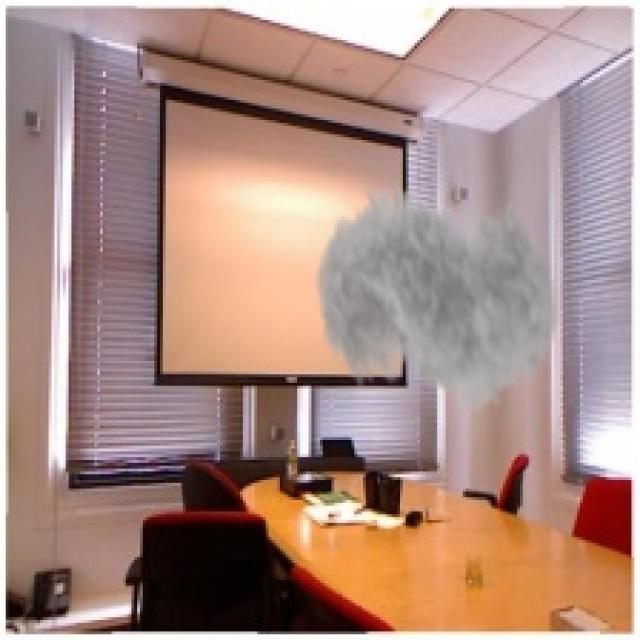smoke: (314, 154, 560, 434)
